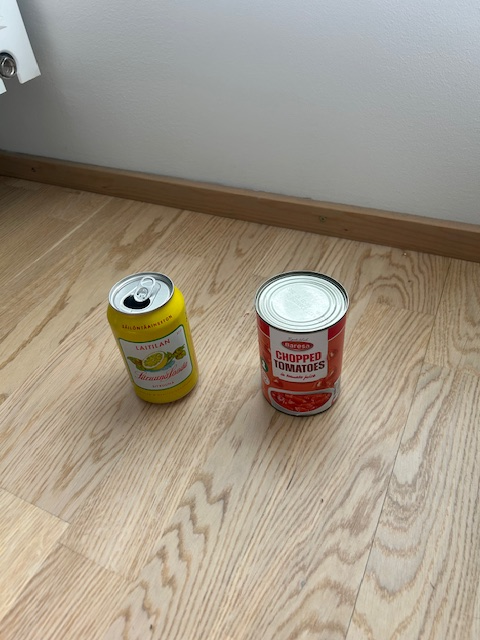Konservburk: (253, 269, 349, 418)
Pantburk: (106, 271, 200, 405)
